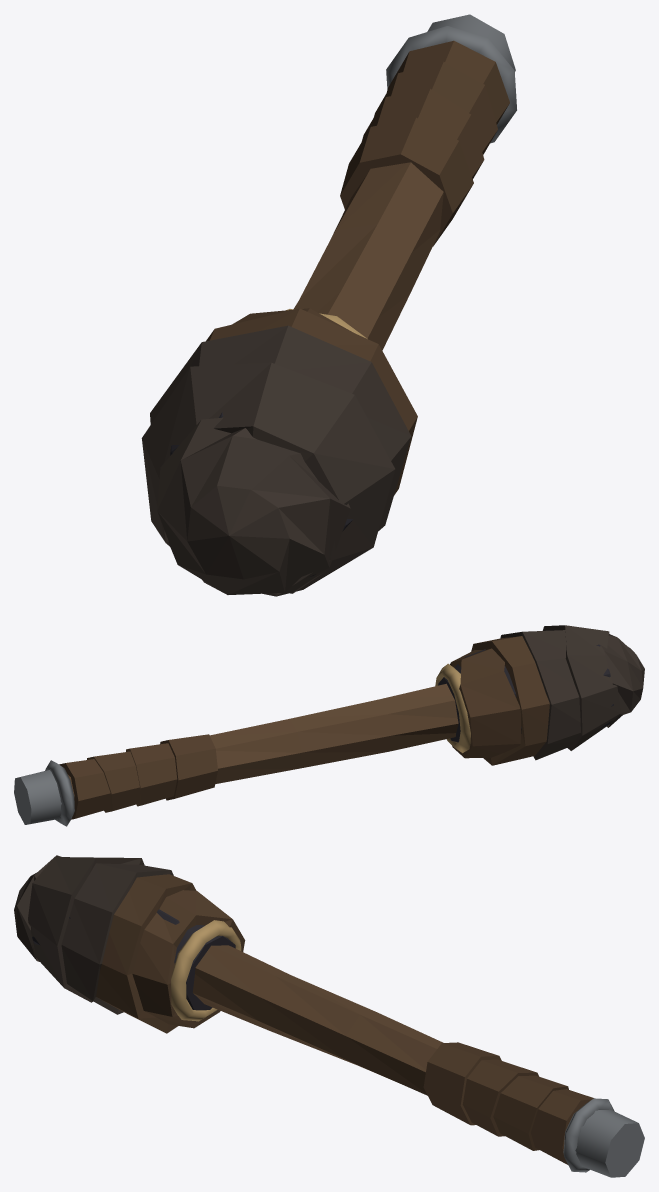
Rendered from SM_LPD_Light_TorchHeld_01.fbx.
3 views of the same model, one above another, from view 1: azimuth 30°, elevation 25°; view 2: azimuth 150°, elevation 25°; view 3: azimuth 270°, elevation 25° (orthographic). The views are drawn at different scales.
Visible parts, largest first — view 1: SM_LPD_Light_TorchHeld_01; view 2: SM_LPD_Light_TorchHeld_01; view 3: SM_LPD_Light_TorchHeld_01.
Part boxes in pixels (x1,y1,x2,y2): SM_LPD_Light_TorchHeld_01: (141,14,516,596); SM_LPD_Light_TorchHeld_01: (14,625,644,826); SM_LPD_Light_TorchHeld_01: (14,855,644,1177).
Size of the model in its own units: 0.3821 by 0.1095 by 0.4405.
